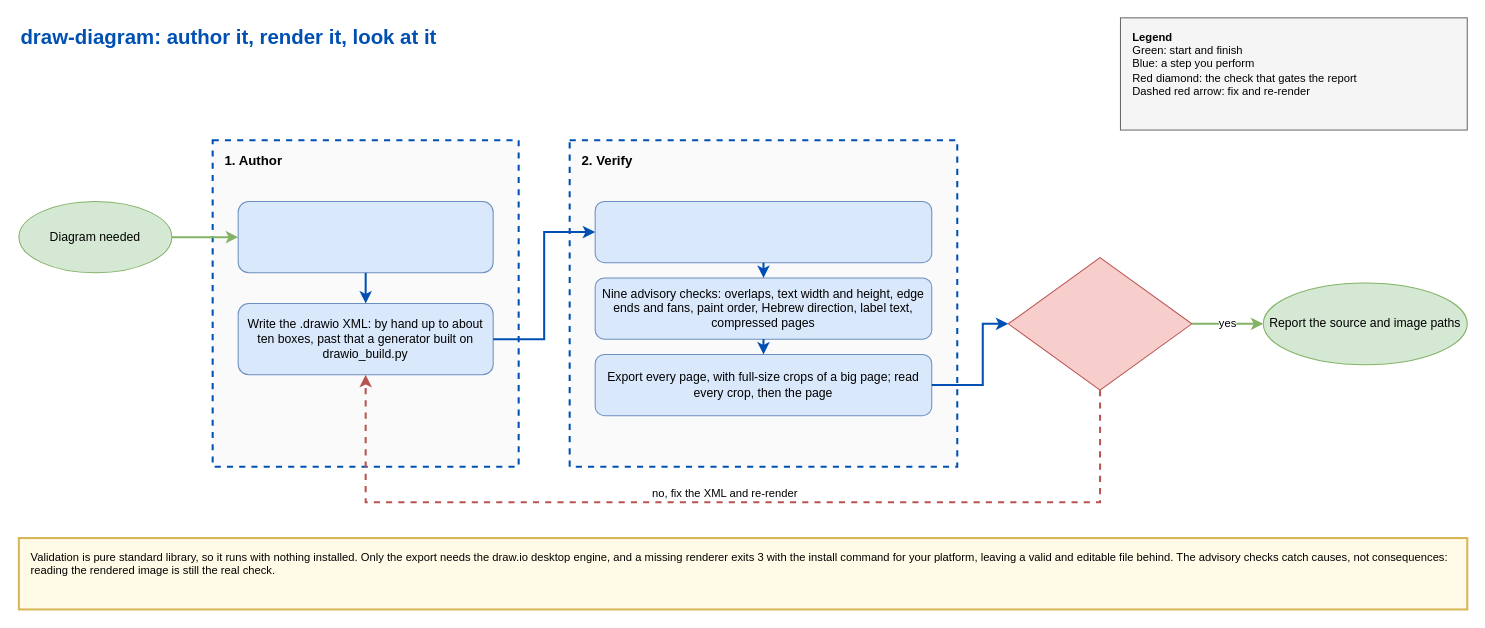
This 1485x628 diagram has some shape labels left out. Here are the shapes that lost their labels. From the top down, the centre of each, then its label:
point 365,236: Load the grammar in DRAWIO_DIAGRAMS.md
point 763,231: render.py: is it a well-formed draw.io document?
point 1099,323: Renders as intended?
